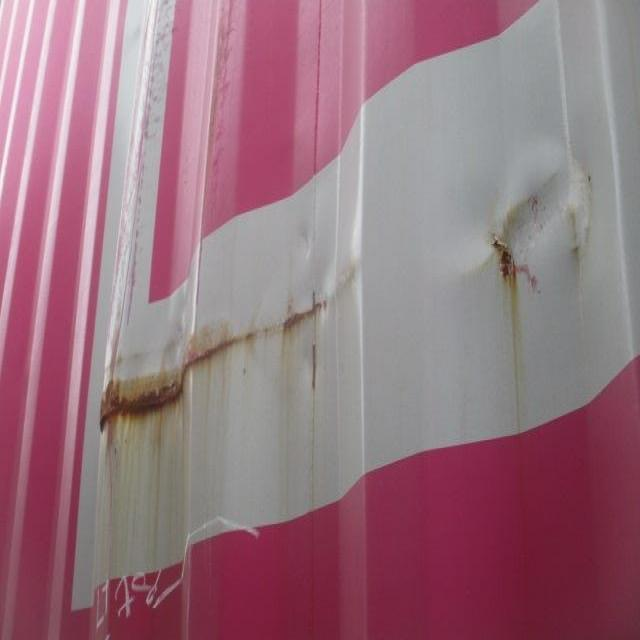Dent: (61, 153, 378, 576)
Minor-Dent: (464, 137, 633, 307)
